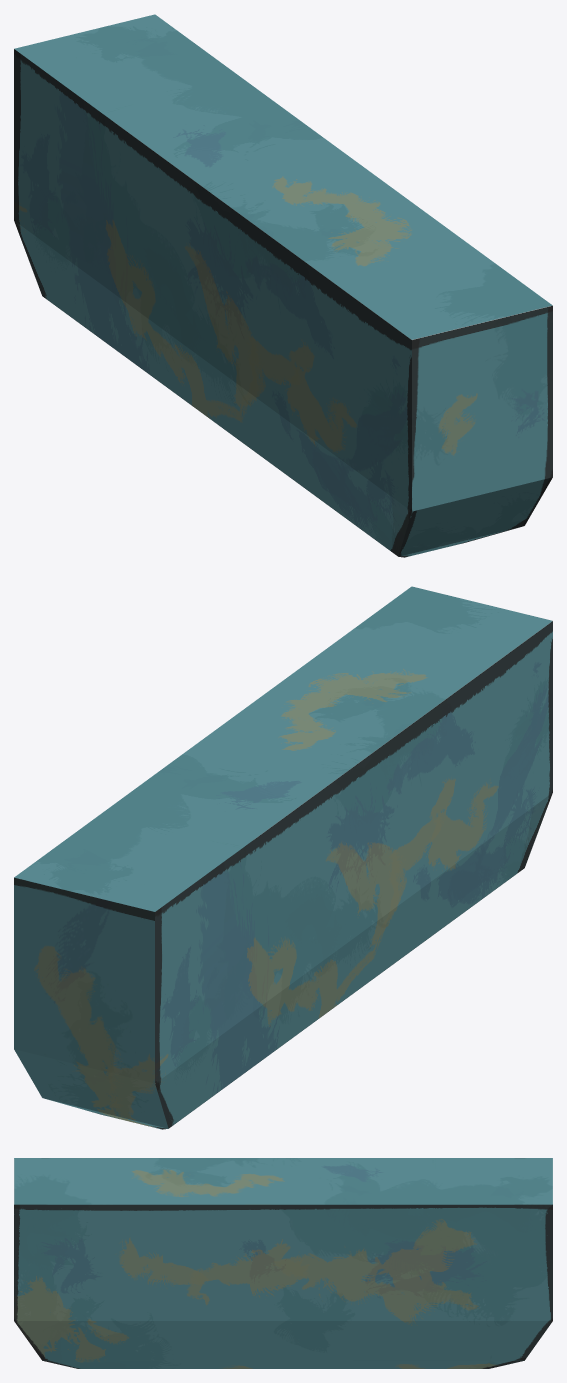
The model's file is 1-Light.fbx.
3 renders of one model, top to bottom at view 1: azimuth 30°, elevation 25°; view 2: azimuth 150°, elevation 25°; view 3: azimuth 270°, elevation 25°, orthographic. The views are drawn at different scales.
Visible parts, largest first — view 1: Cube.007; view 2: Cube.007; view 3: Cube.007.
Part boxes in pixels (left/top/right/bottom): Cube.007: left=14, top=14, right=552, bottom=557; Cube.007: left=14, top=586, right=552, bottom=1129; Cube.007: left=14, top=1158, right=552, bottom=1368.
Size of the model in its own units: 22.11 by 39.16 by 108.
1 material, 1 textured.
